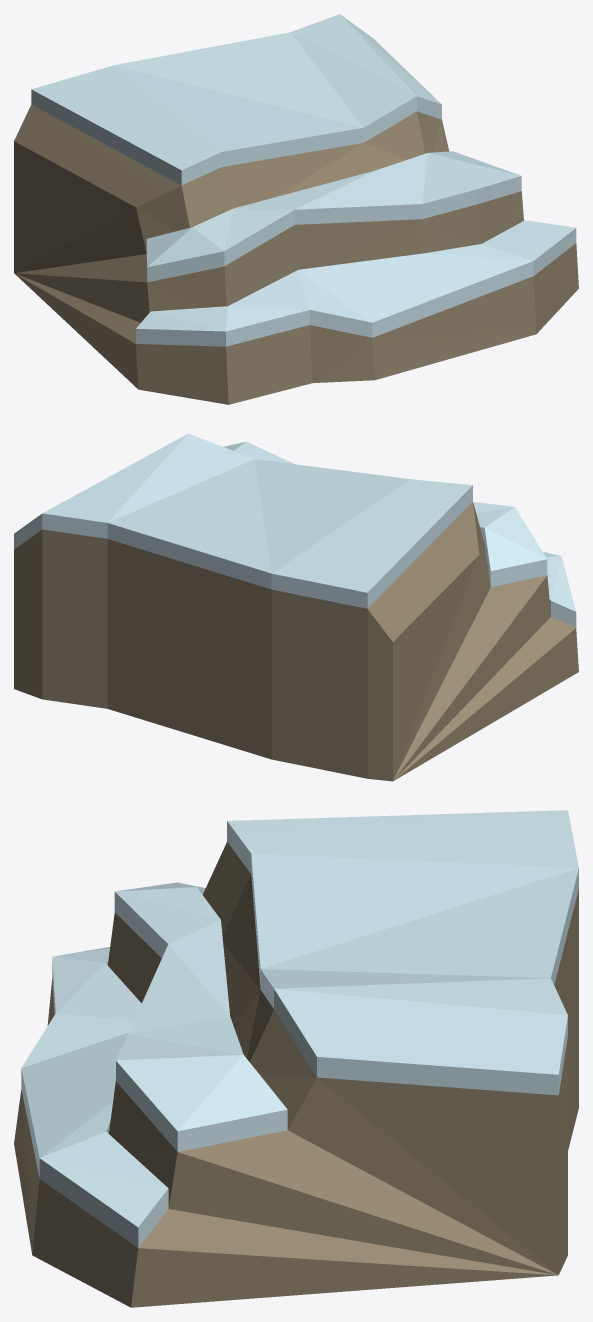
The model's file is SM_Bld_House_StepsSmall_01_Snow.glb.
The picture shows the model from 3 angles, top to bottom: view 1: azimuth 30°, elevation 25°; view 2: azimuth 150°, elevation 25°; view 3: azimuth 270°, elevation 25°; orthographic projection. The views are drawn at different scales.
Visible parts, largest first — view 1: SM_Bld_House_StepsSmall_01_Snow; view 2: SM_Bld_House_StepsSmall_01_Snow; view 3: SM_Bld_House_StepsSmall_01_Snow.
Boxes of the visible parts, x1,y1,x2,y2 form: SM_Bld_House_StepsSmall_01_Snow: (14,14,578,404); SM_Bld_House_StepsSmall_01_Snow: (14,433,578,781); SM_Bld_House_StepsSmall_01_Snow: (14,810,578,1307).
Size of the model in its own units: 1.35 by 0.5375 by 1.12.
1 material, 1 textured.
